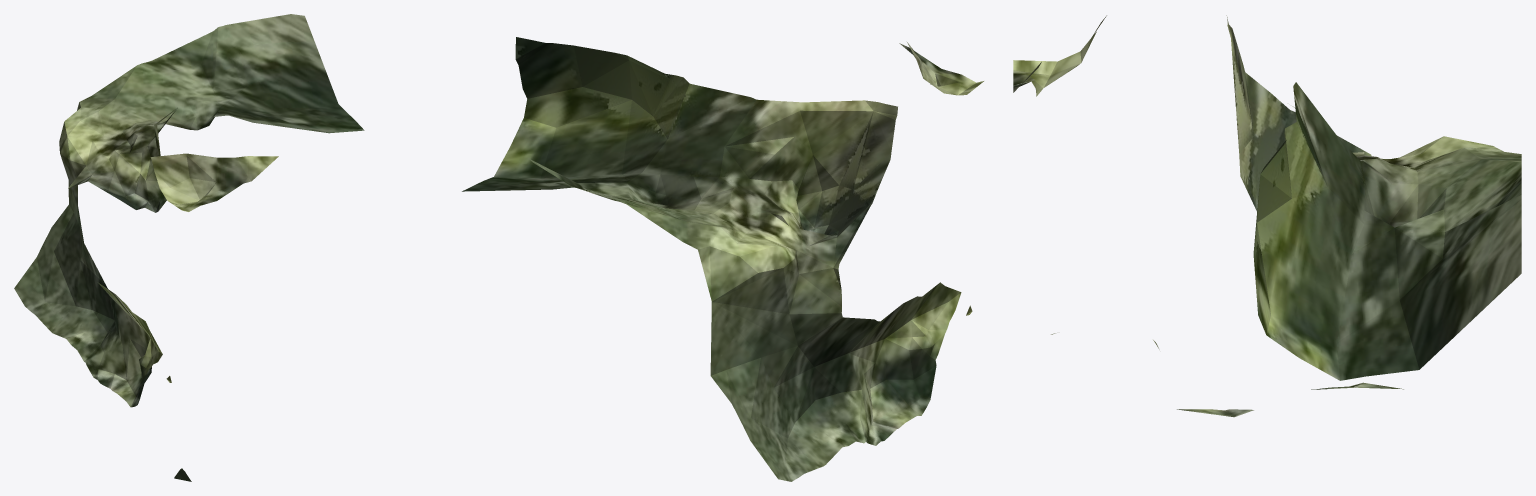
3 renders of one model, left to right at view 1: azimuth 30°, elevation 25°; view 2: azimuth 150°, elevation 25°; view 3: azimuth 270°, elevation 25°, orthographic. The views are drawn at different scales.
Bounding box in the file's own units: 2.95 × 2.95 × 2.95.
Materials: 3 (3 with a texture image).
